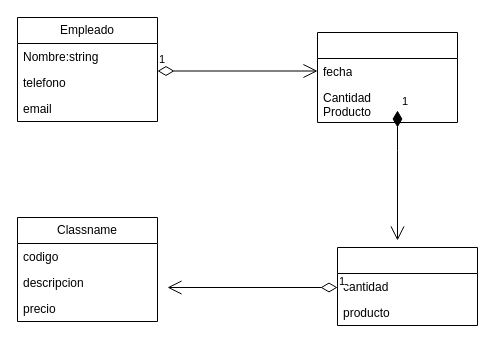
This 495x346 diagram has some shape labels left out. The box of each missing label's shape, as (x1, y1, x2, y2) in pixels:
linea de pedido: (336, 246, 478, 326)
Pedido: (316, 32, 458, 122)
